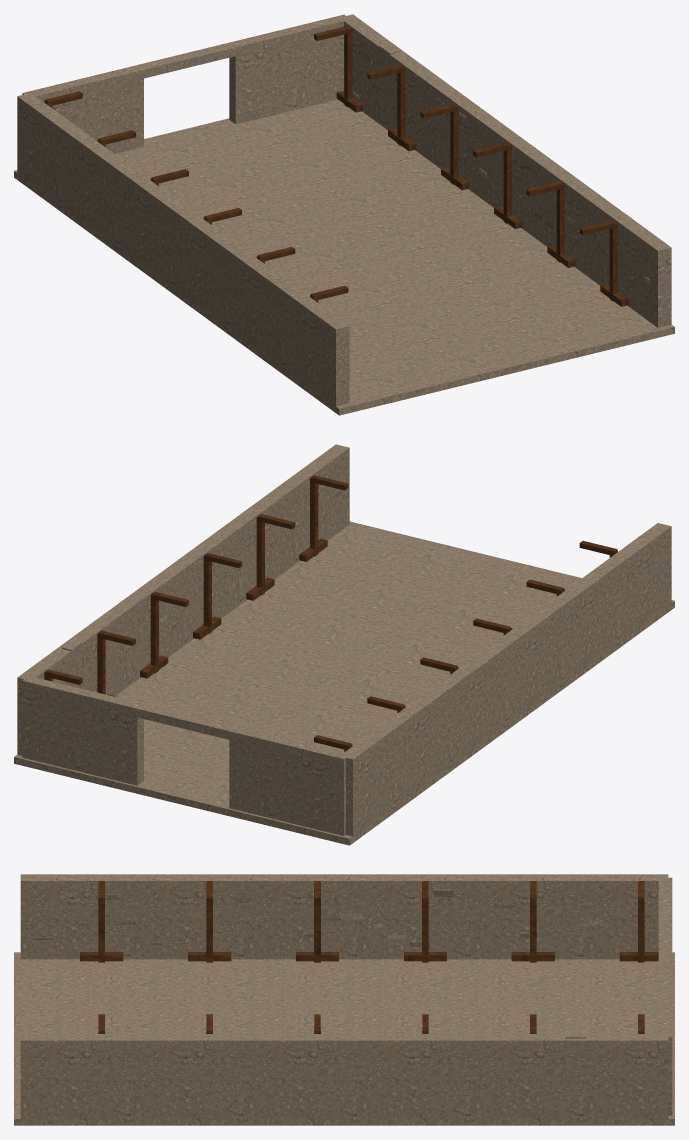
File: dig-rebuilt.glb
3 renders of one model, top to bottom at view 1: azimuth 30°, elevation 25°; view 2: azimuth 150°, elevation 25°; view 3: azimuth 270°, elevation 25°, orthographic.
Visible parts, largest first — view 1: 岩土地面, 通道土壁, 通道土壁.001, 出口两侧岩壁.001, 出口两侧岩壁, 出口上方岩壁, 支撑立柱.011, 支撑立柱.008, 支撑立柱.009, 支撑立柱.010, 支撑立柱.006, 支撑立柱.007; view 2: 岩土地面, 通道土壁, 通道土壁.001, 出口两侧岩壁.001, 出口两侧岩壁, 出口上方岩壁, 支撑立柱.007, 支撑立柱.009, 支撑立柱.008, 支撑立柱.006; view 3: 通道土壁.001, 岩土地面, 通道土壁, 出口两侧岩壁.001, 出口两侧岩壁, 出口上方岩壁, 墙脚横梁, 墙脚横梁.001, 墙脚横梁.004, 支撑立柱.002, 墙脚横梁.003, 墙脚横梁.002 (+1 smaller).
Boxes of the visible parts, x1,y1,x2,y2 form: 岩土地面: [14, 99, 674, 415]; 通道土壁: [17, 93, 349, 406]; 通道土壁.001: [339, 14, 671, 327]; 出口两侧岩壁.001: [229, 14, 347, 124]; 出口两侧岩壁: [22, 65, 143, 153]; 出口上方岩壁: [137, 42, 235, 78]; 支撑立柱.011: [344, 28, 352, 107]; 支撑立柱.008: [503, 145, 511, 223]; 支撑立柱.009: [450, 106, 458, 184]; 支撑立柱.010: [397, 67, 405, 145]; 支撑立柱.006: [609, 223, 617, 301]; 支撑立柱.007: [556, 184, 564, 262]; 岩土地面: [14, 521, 674, 845]; 通道土壁: [339, 523, 671, 836]; 通道土壁.001: [17, 444, 349, 755]; 出口两侧岩壁.001: [22, 677, 143, 785]; 出口两侧岩壁: [229, 726, 349, 835]; 出口上方岩壁: [137, 704, 235, 739]; 支撑立柱.007: [256, 517, 264, 595]; 支撑立柱.009: [150, 595, 158, 673]; 支撑立柱.008: [203, 556, 211, 634]; 支撑立柱.006: [310, 478, 318, 556]; 通道土壁.001: [20, 1034, 668, 1118]; 岩土地面: [14, 952, 674, 1125]; 通道土壁: [20, 874, 668, 959]; 出口两侧岩壁.001: [658, 980, 672, 1115]; 出口两侧岩壁: [658, 877, 672, 934]; 出口上方岩壁: [658, 934, 672, 980]; 墙脚横梁: [80, 952, 123, 961]; 墙脚横梁.001: [188, 952, 231, 961]; 墙脚横梁.004: [511, 952, 554, 961]; 支撑立柱.002: [314, 882, 320, 962]; 墙脚横梁.003: [404, 952, 446, 961]; 墙脚横梁.002: [296, 952, 338, 961].
Bounding box in the file's own units: 14.6 × 3.54 × 24.5.
2 materials, 2 textured.
